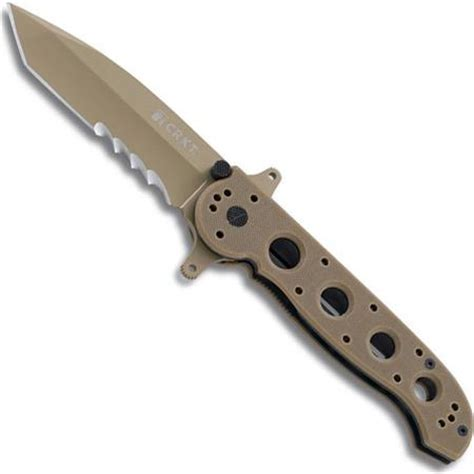knife: (9, 4, 472, 462)
